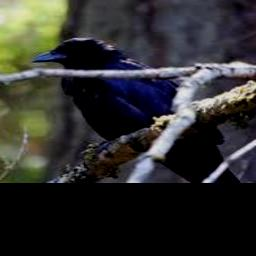Crow: (33, 37, 242, 183)
